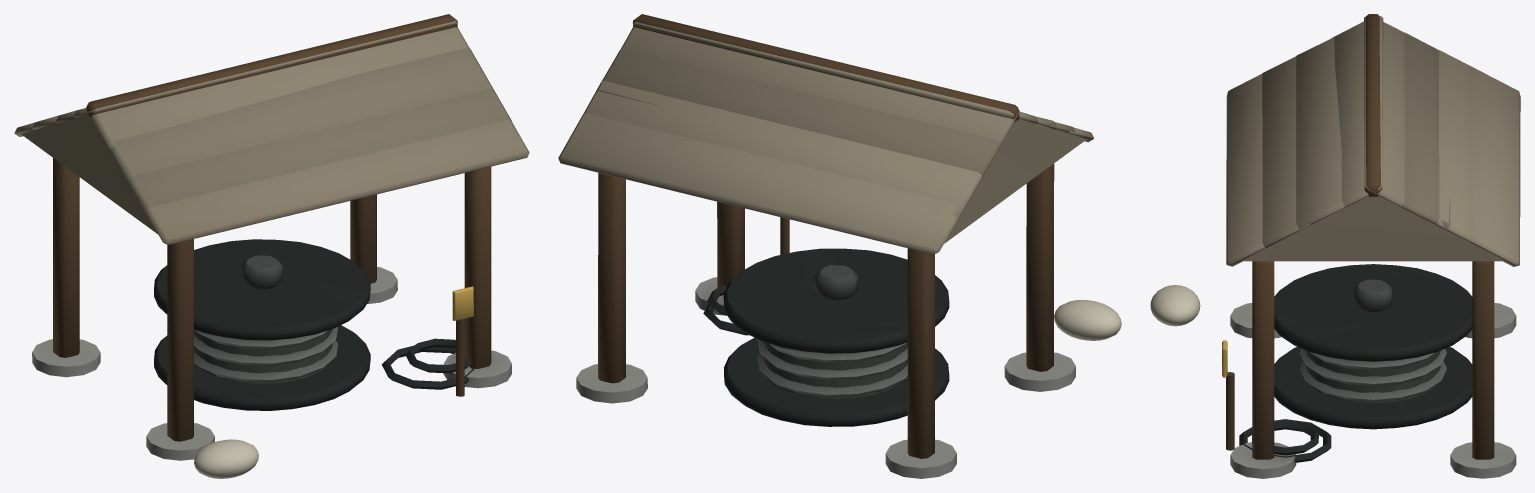
Rendered from spool_shed_a.glb.
3 views of the same model, side by side, from view 1: azimuth 30°, elevation 25°; view 2: azimuth 150°, elevation 25°; view 3: azimuth 270°, elevation 25° (orthographic). The views are drawn at different scales.
Visible parts, largest first — view 1: Surface; view 2: Surface; view 3: Surface.
Part boxes in pixels (left/top/right/bottom): Surface: left=14, top=14, right=529, bottom=478; Surface: left=558, top=14, right=1121, bottom=478; Surface: left=1150, top=14, right=1520, bottom=478.
Size of the model in its own units: 3.71 by 2.98 by 3.37.
